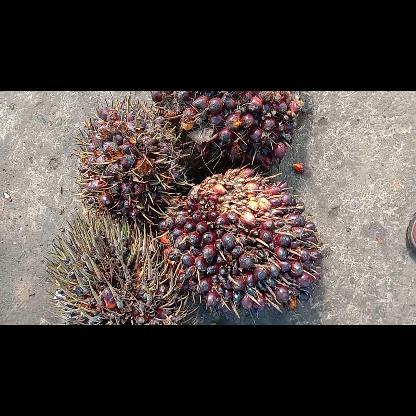Kurang masak: (157, 165, 323, 315), (77, 93, 188, 222)
TBS abnormal: (46, 210, 198, 324)
TBS masak: (150, 92, 306, 166)
